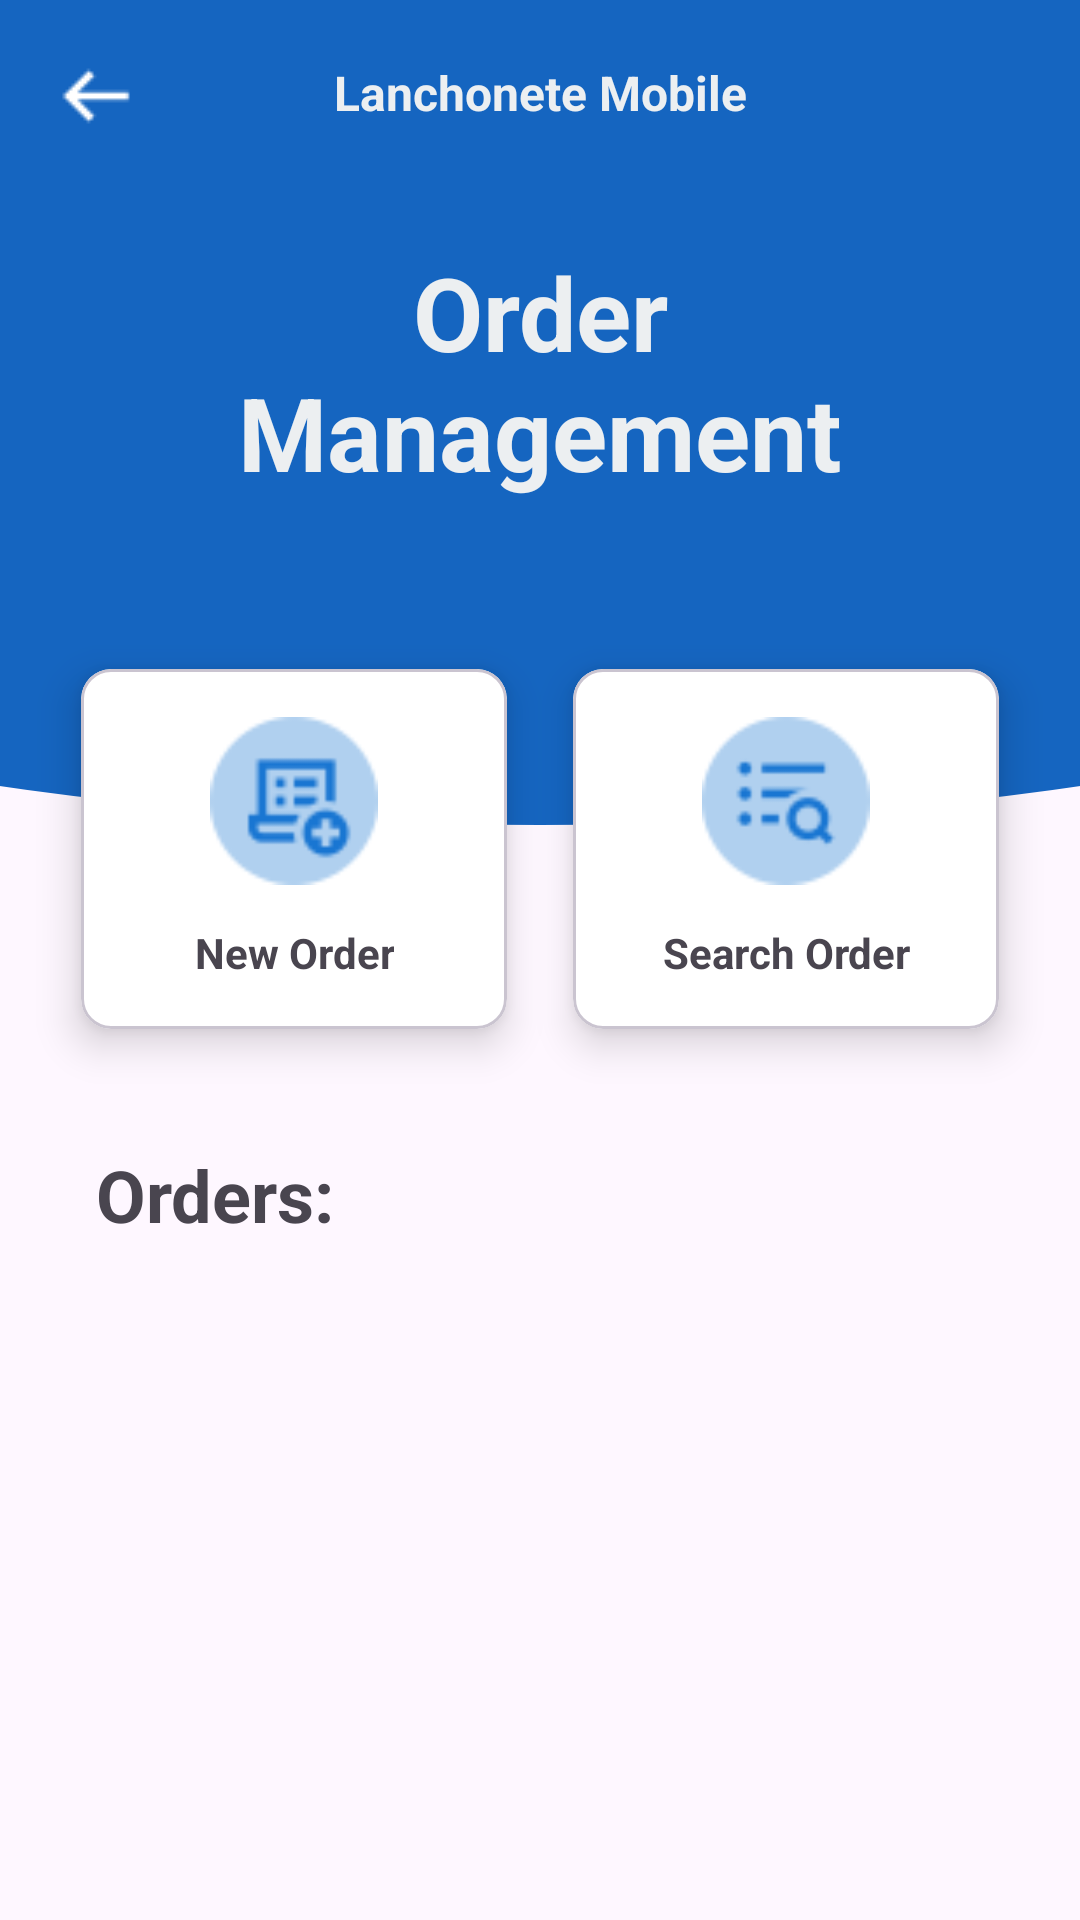

Icons on this 1080px×1920px Android screen, each with its box as (x1=x1, y1=y1, x2=x2, y2=y2):
Back: (x1=62, y1=69, x2=130, y2=123)
